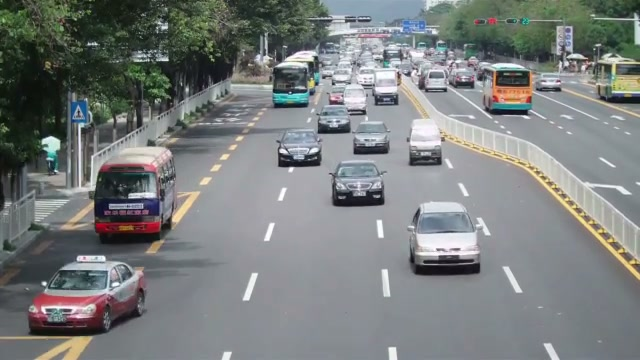bus: (94, 145, 177, 241), (481, 63, 534, 114), (595, 55, 640, 102), (272, 62, 311, 108), (285, 50, 321, 87)
car: (26, 256, 148, 334), (406, 201, 486, 275), (328, 159, 386, 206), (276, 128, 323, 167), (407, 118, 443, 166), (352, 120, 391, 154), (317, 105, 352, 133), (343, 85, 367, 113), (452, 68, 476, 88), (536, 76, 562, 92)
truck: (373, 69, 400, 105)
